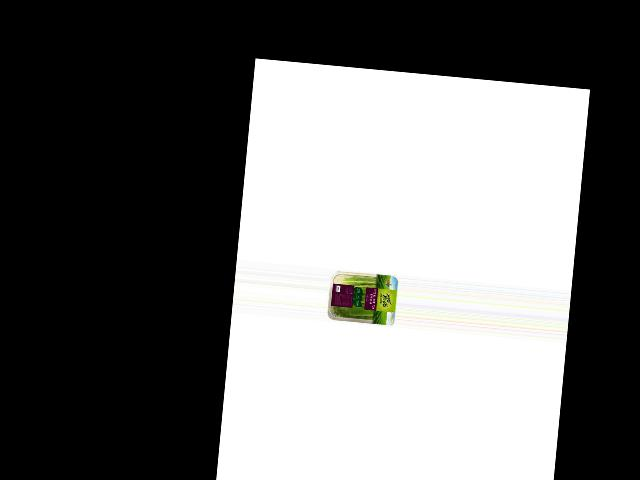lettuce: (326, 269, 393, 325)
